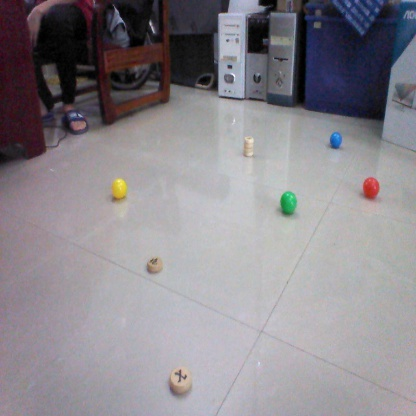ball: (109, 176, 130, 200), (279, 189, 300, 213), (361, 175, 382, 199), (327, 128, 345, 150)
chess: (168, 362, 194, 396), (243, 133, 259, 159), (146, 255, 164, 277)
